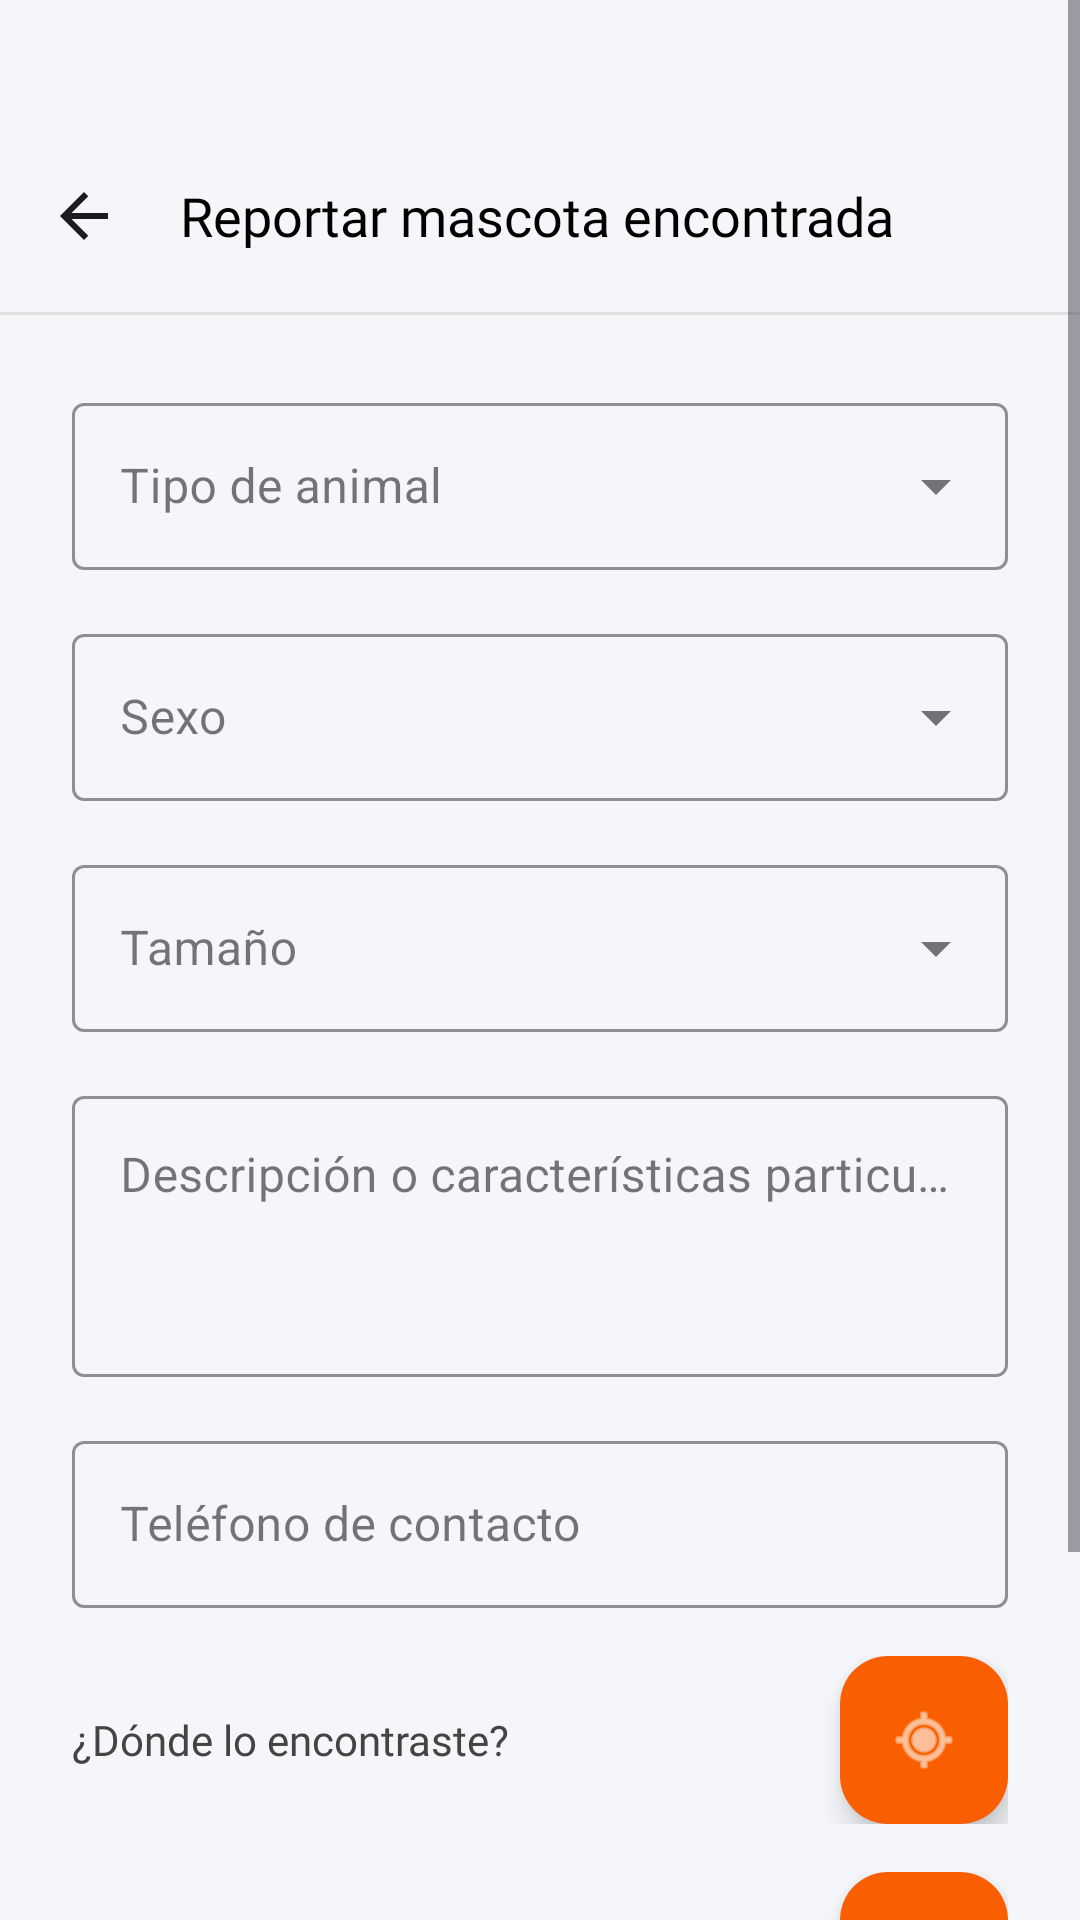

Point at icon controls on the screen. Image size 1080 × 1920, points as (x,y).
mylocation: (924,1740)
